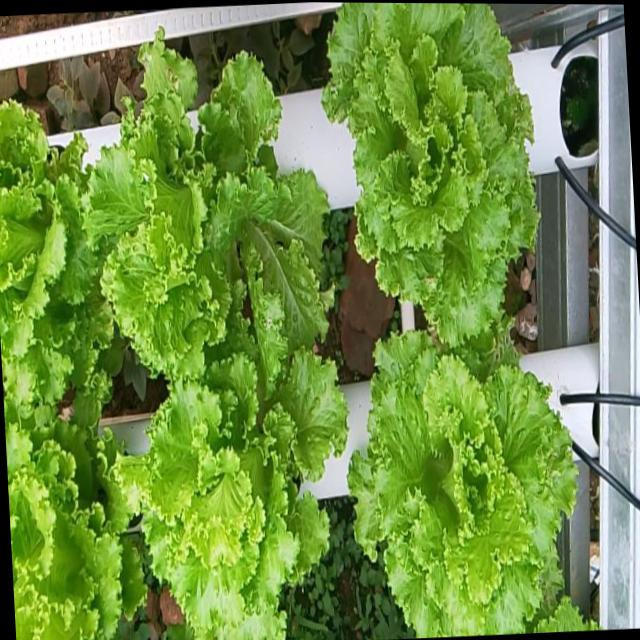Mature: (364, 303, 623, 637), (110, 45, 342, 377), (145, 305, 363, 634), (335, 3, 547, 328), (6, 398, 171, 640), (0, 114, 133, 398)
